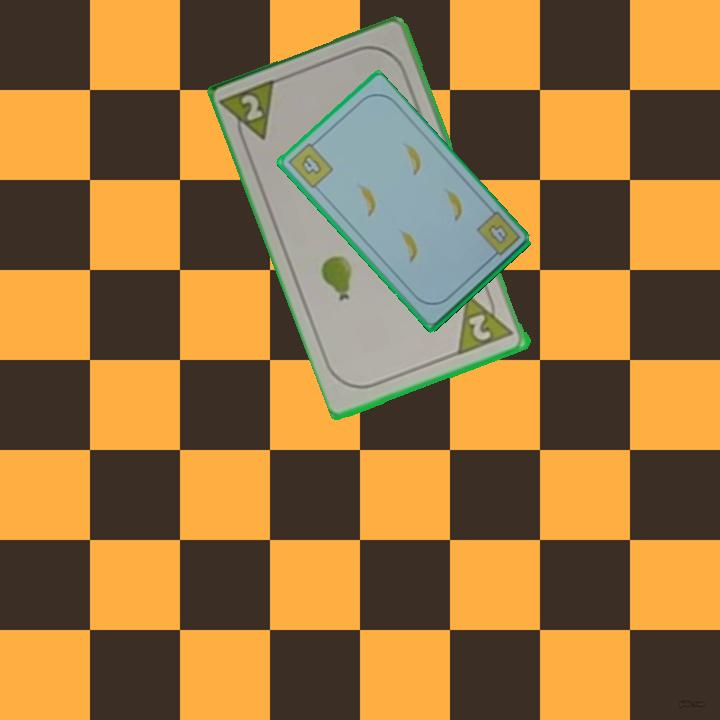2p: (219, 75, 282, 151), (455, 284, 517, 358)
4b: (284, 136, 336, 192), (473, 208, 523, 263)
